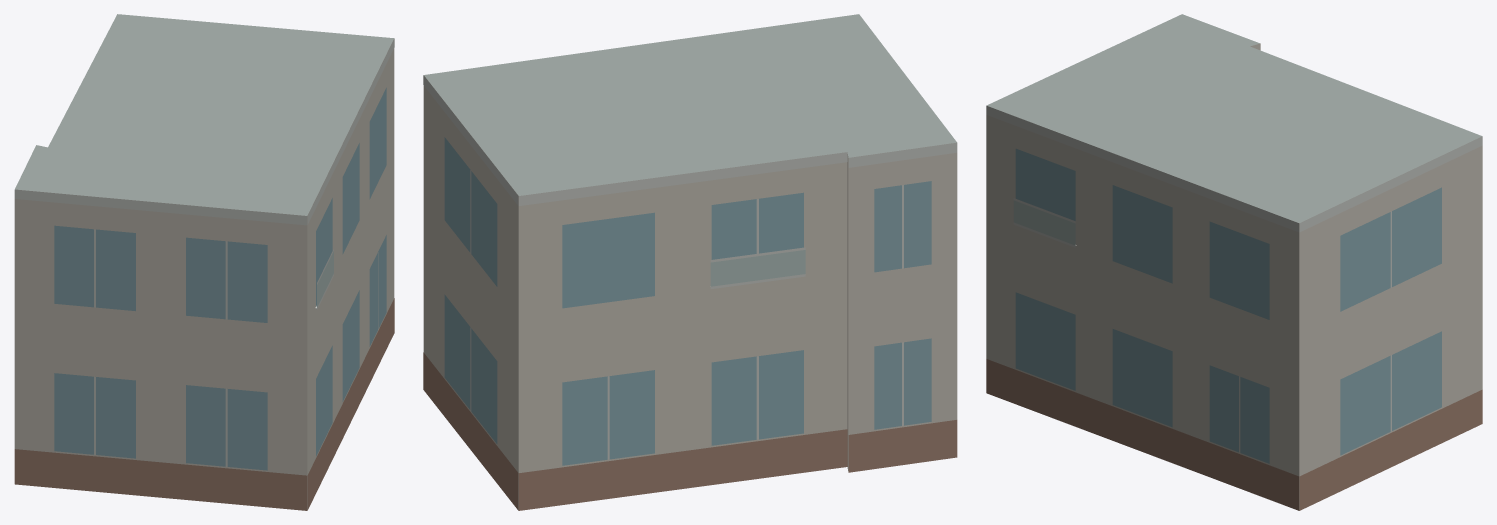
File: survey-upis-32971144.glb
3 renders of one model, left to right at view 1: azimuth 30°, elevation 25°; view 2: azimuth 150°, elevation 25°; view 3: azimuth 270°, elevation 25°, orthographic. The views are drawn at different scales.
Parts seen in each view (by area): view 1: survey-upis-32971144.tmp; view 2: survey-upis-32971144.tmp; view 3: survey-upis-32971144.tmp.
Part boxes in pixels (x1,y1,x2,y2): survey-upis-32971144.tmp: [14, 14, 394, 510]; survey-upis-32971144.tmp: [423, 14, 957, 510]; survey-upis-32971144.tmp: [986, 14, 1482, 510].
Size of the model in its own units: 11.87 by 7.6 by 11.9.
